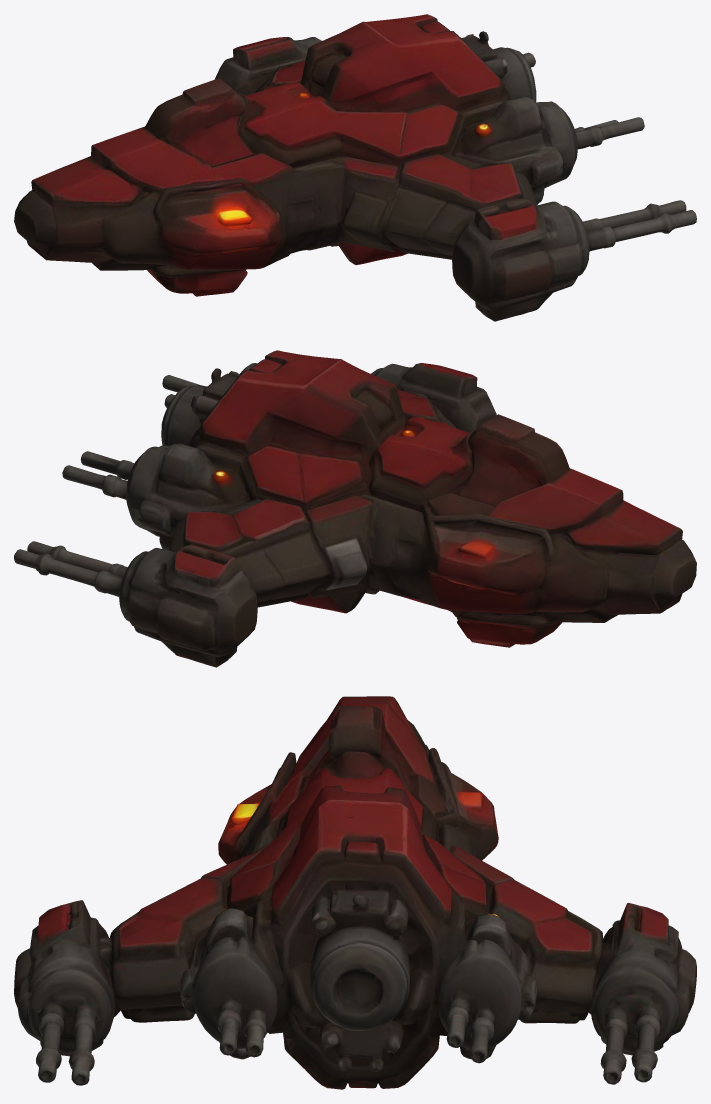
Rendered from aegis_r.glb.
3 views of the same model, one above another, from view 1: azimuth 30°, elevation 25°; view 2: azimuth 150°, elevation 25°; view 3: azimuth 270°, elevation 25° (orthographic). The views are drawn at different scales.
Visible parts, largest first — view 1: tripo_node_5f5b1d59-fc87-4016-b5d6-327f7a16c952; view 2: tripo_node_5f5b1d59-fc87-4016-b5d6-327f7a16c952; view 3: tripo_node_5f5b1d59-fc87-4016-b5d6-327f7a16c952.
Part boxes in pixels (x1,y1,x2,y2): tripo_node_5f5b1d59-fc87-4016-b5d6-327f7a16c952: (14,14,696,321); tripo_node_5f5b1d59-fc87-4016-b5d6-327f7a16c952: (14,350,696,667); tripo_node_5f5b1d59-fc87-4016-b5d6-327f7a16c952: (14,696,696,1089).
Size of the model in its own units: 2 by 0.7519 by 1.74.
Materials: 1 (1 with a texture image).
